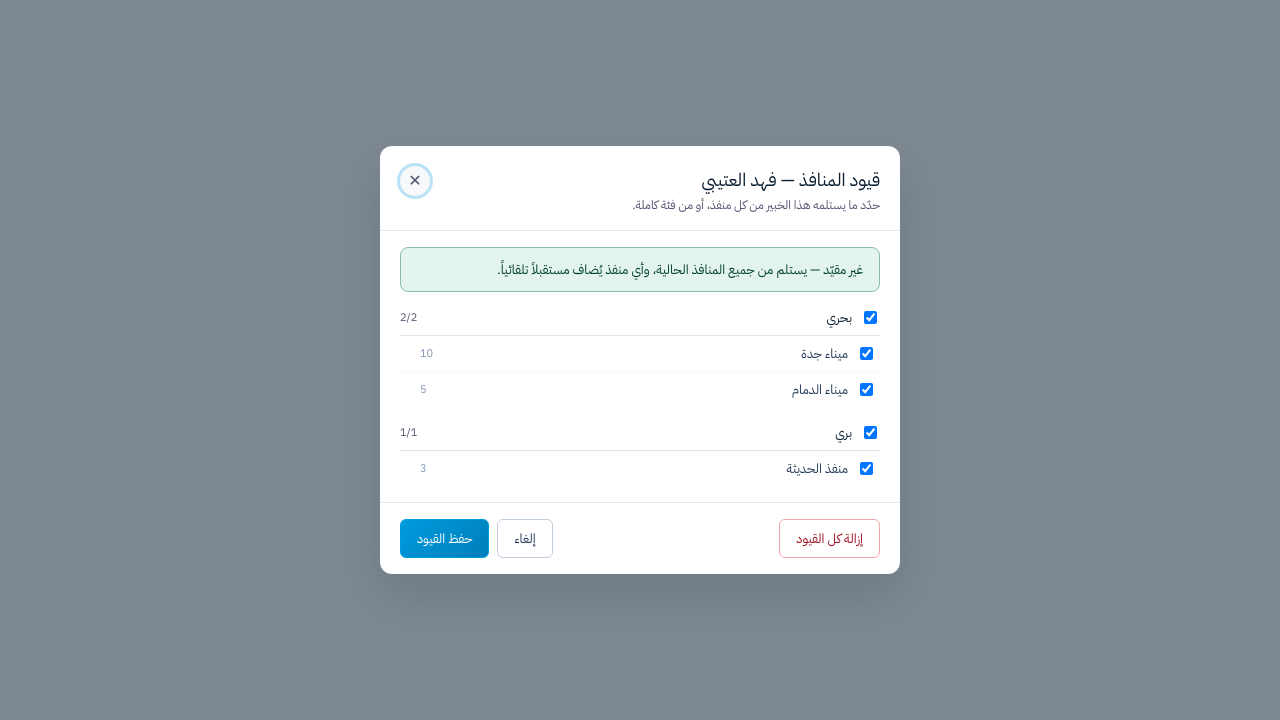
Test: PortRestrictionsModal › the category checkbox toggles every port under it at once
Click the checkbox labelled "بحري" at (870, 318), box [864, 311, 877, 324]
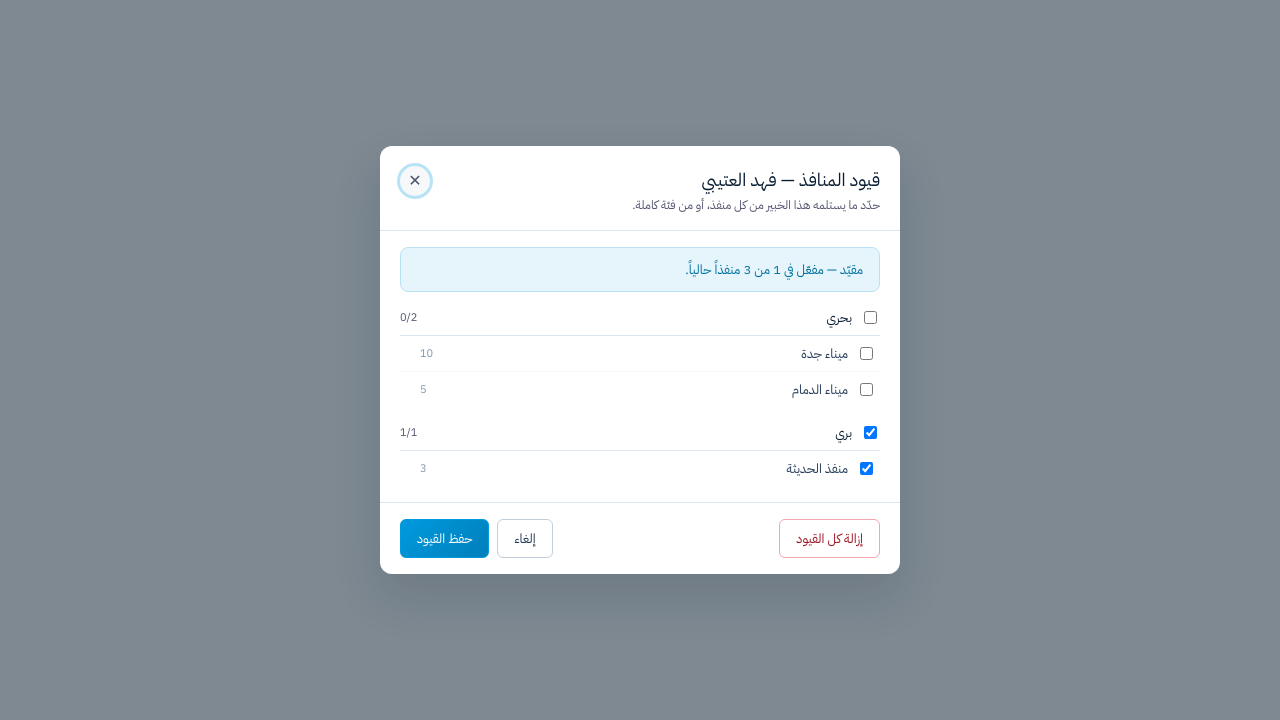
expect the checkbox labelled "منفذ الحديثة" is checked: met, box [860, 462, 873, 475]
expect the checkbox labelled "ميناء جدة" is not checked: met, box [860, 347, 873, 360]
expect the checkbox labelled "ميناء الدمام" is not checked: met, box [860, 383, 873, 396]
